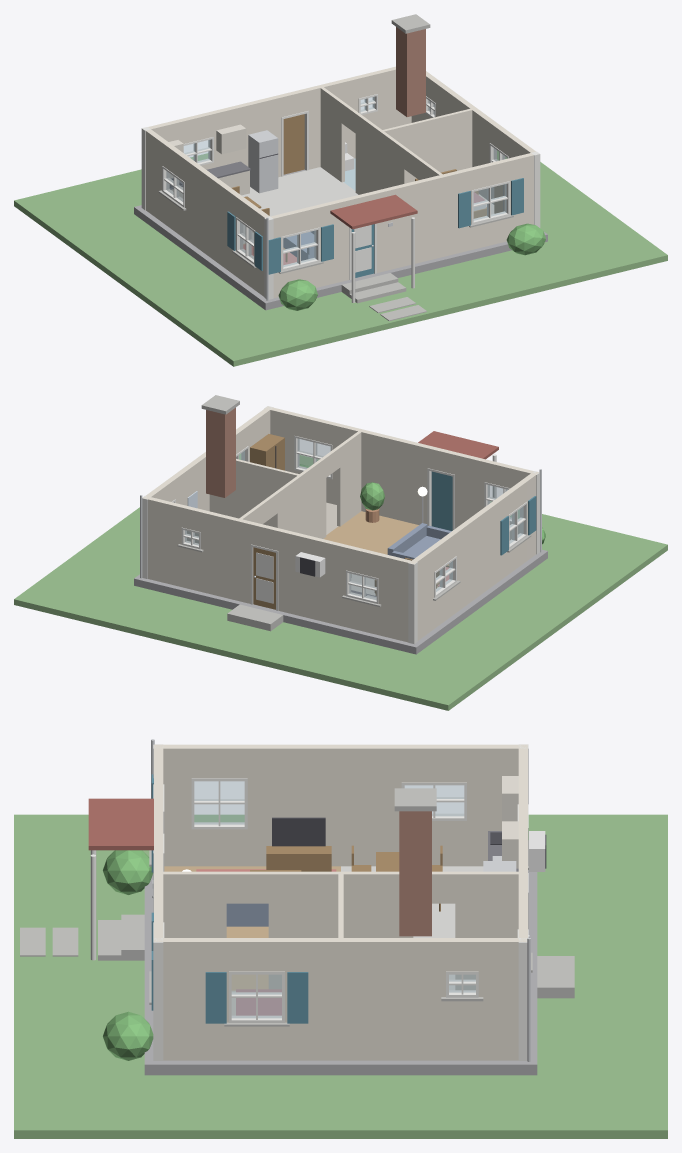
The model's file is house_interior.glb.
3 views of the same model, one above another, from view 1: azimuth 30°, elevation 25°; view 2: azimuth 150°, elevation 25°; view 3: azimuth 270°, elevation 25° (orthographic). The views are drawn at different scales.
Visible parts, largest first — view 1: ground, wall_front_5, wall_left_3, part_z_0, foundation, part_x_2, floor_kitchen, wall_back_3, chimney, wall_back_5, part_x_0, wall_front_3 (+25 smaller); view 2: ground, wall_front_5, wall_back_3, foundation, wall_left_3, wall_back_5, part_x_2, wall_back_8, part_z_0, wall_back_0, chimney, floor_living (+29 smaller); view 3: ground, wall_right_3, wall_left_3, foundation, part_x_2, wall_right_6, wall_right_0, part_x_0, wall_left_0, part_x_4, chimney, canopy (+37 smaller).
Part boxes in pixels (x1,y1,x2,y2): ground: (14,150,667,366); wall_front_5: (374,168,471,272); wall_left_3: (185,158,241,276); part_z_0: (382,108,472,182); foundation: (134,169,547,310); part_x_2: (355,113,407,194); floor_kitchen: (241,167,358,243); wall_back_3: (210,95,281,177); chimney: (396,27,425,116); wall_back_5: (306,76,358,169); part_x_0: (320,87,344,182); wall_front_3: (317,198,349,286); ground: (14,454,667,710); wall_front_5: (332,423,430,524); wall_back_3: (278,529,348,626); foundation: (134,549,547,654); wall_left_3: (451,494,507,612); wall_back_5: (201,510,253,603); part_x_2: (274,457,326,538); wall_back_8: (143,496,184,586); part_z_0: (209,459,299,526); wall_back_0: (378,553,416,642); chimney: (206,407,235,497); floor_living: (324,511,438,587); ground: (14,814,667,1138); wall_right_3: (285,938,445,1060); wall_left_3: (247,744,401,866); foundation: (144,870,537,1075); part_x_2: (268,871,413,989); wall_right_6: (163,938,228,1060); wall_right_0: (478,938,518,1060); part_x_0: (455,871,518,990); wall_left_0: (467,744,518,866); part_x_4: (163,871,226,937); chimney: (399,811,431,936); canopy: (88,798,153,850).
Bounding box in the file's own units: 16 × 5.97 × 14.
